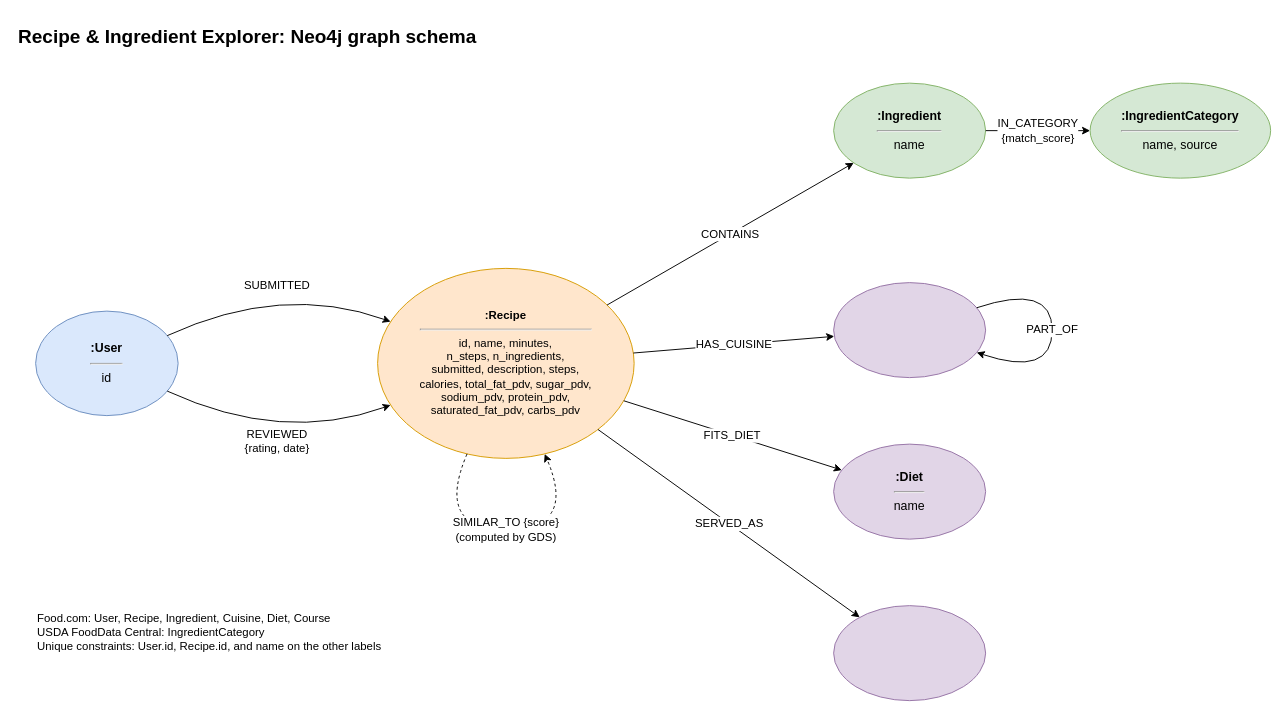
This 1287x717 diagram has some shape labels left out. Each missing label, with the centre of its shape:
:Course name: [909,653]
:Cuisine name: [909,330]
